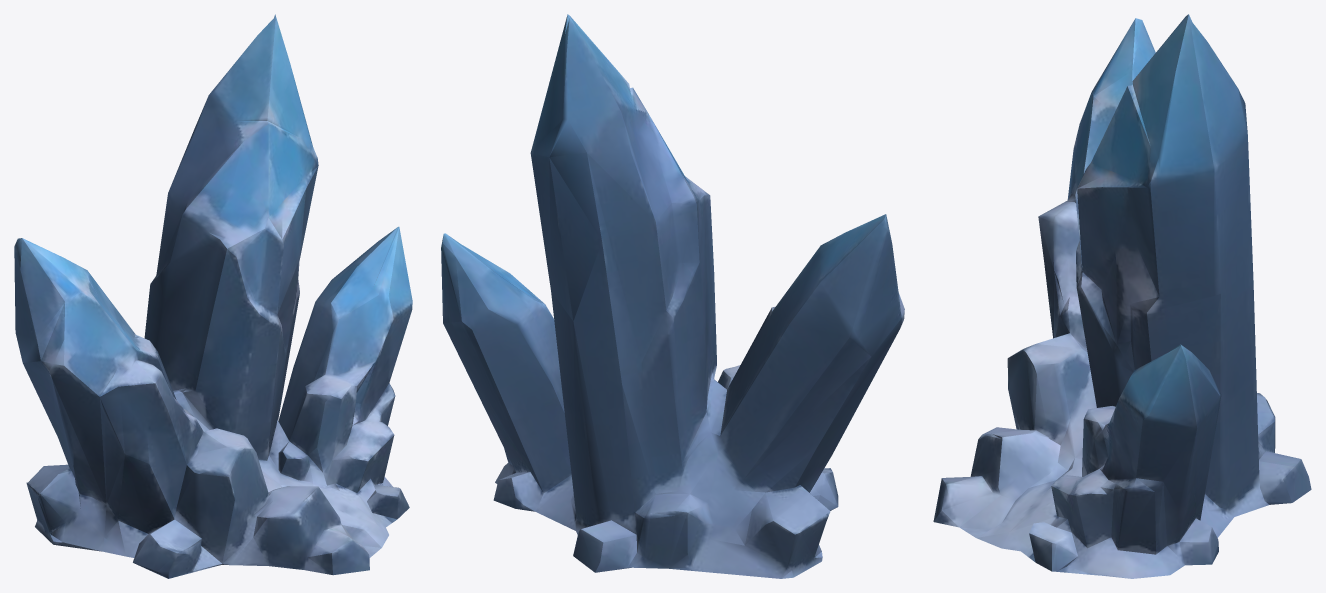
Rendered from ice_shard.glb.
3 renders of one model, left to right at view 1: azimuth 30°, elevation 25°; view 2: azimuth 150°, elevation 25°; view 3: azimuth 270°, elevation 25°, orthographic. The views are drawn at different scales.
Visible parts, largest first — view 1: body; view 2: body; view 3: body.
Boxes of the visible parts, x1,y1,x2,y2 form: body: (14,14,412,578); body: (441,14,904,578); body: (933,14,1311,578).
Bounding box in the file's own units: 0.3598 × 0.3997 × 0.2635.
Materials: 1 (1 with a texture image).
